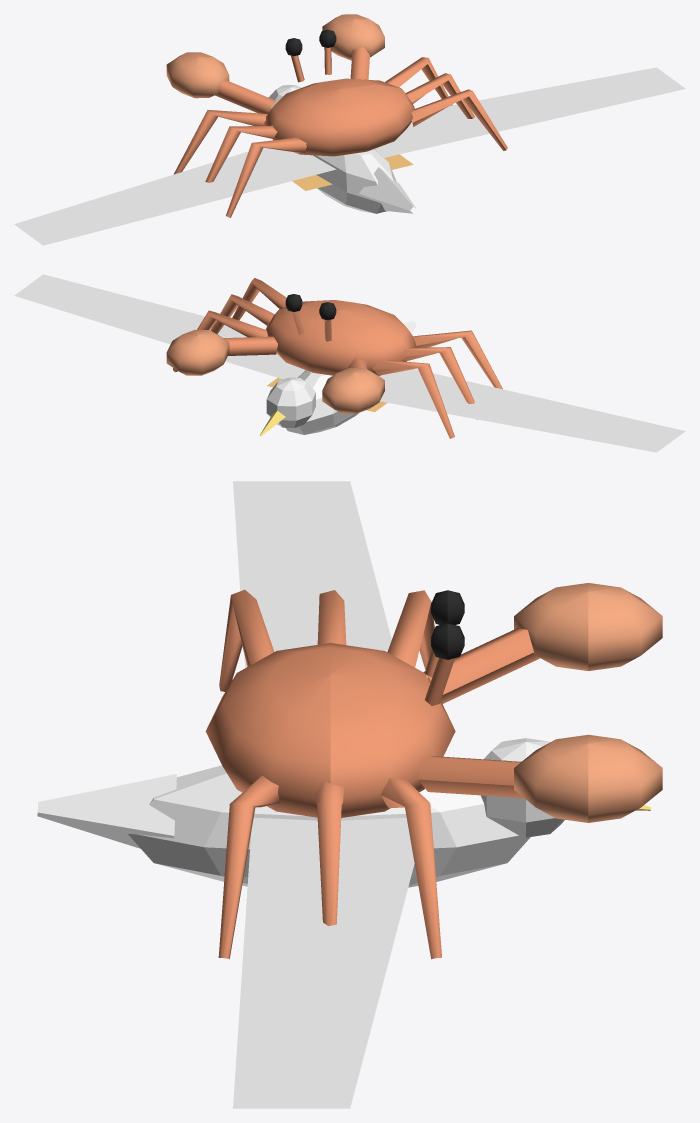
Rendered from adventure_fauna.glb.
3 views of the same model, one above another, from view 1: azimuth 30°, elevation 25°; view 2: azimuth 150°, elevation 25°; view 3: azimuth 270°, elevation 25° (orthographic). The views are drawn at different scales.
Visible parts, largest first — view 1: gull, crab, butterfly; view 2: gull, crab; view 3: gull, crab.
Boxes of the visible parts, bbox=[...] form: gull: bbox=[14, 67, 685, 245]; crab: bbox=[166, 14, 507, 217]; butterfly: bbox=[292, 154, 413, 190]; gull: bbox=[14, 274, 685, 452]; crab: bbox=[166, 278, 502, 438]; gull: bbox=[37, 481, 651, 1108]; crab: bbox=[205, 583, 662, 959].
Size of the model in its own units: 3.8 by 0.79 by 1.6.
